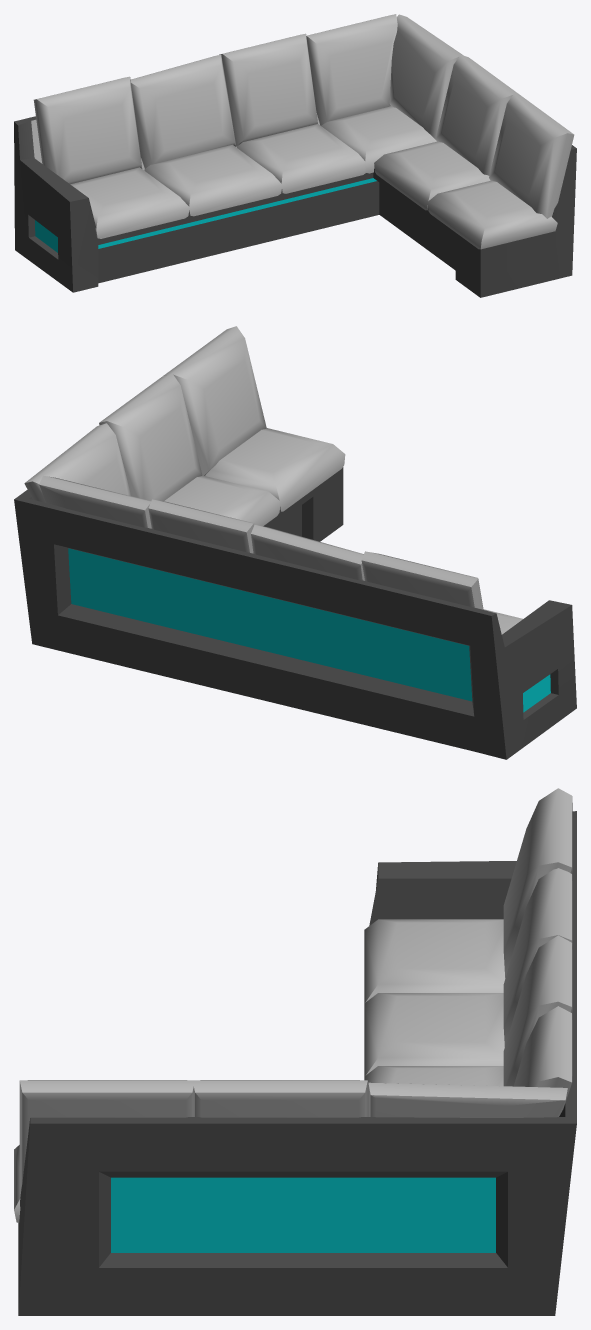
The model's file is SM_decor_sofa1.fbx.
3 views of the same model, one above another, from view 1: azimuth 30°, elevation 25°; view 2: azimuth 150°, elevation 25°; view 3: azimuth 270°, elevation 25° (orthographic). The views are drawn at different scales.
Visible parts, largest first — view 1: pCube1, pCube2, pCube5, pCube7, pCube12, polySurface5, pCube4, polySurface4, polySurface3, polySurface2, pCube6, pCube3 (+2 smaller); view 2: pCube1, polySurface5, polySurface4, polySurface2, polySurface3, pCube2, polySurface1, pCube5, pCube7, pCube12; view 3: pCube1, pCube3, pCube4, polySurface5, polySurface4, polySurface3, pCube2, pCube5, pCube7, pCube12, pCube6.
Part boxes in pixels (box(x1,y1,x2,y2)): pCube1: box(14, 113, 576, 297); pCube2: box(33, 76, 142, 184); pCube5: box(130, 54, 236, 168); pCube7: box(219, 33, 317, 146); pCube12: box(306, 14, 397, 125); polySurface5: box(489, 94, 574, 218); pCube4: box(144, 144, 281, 216); polySurface4: box(436, 55, 520, 175); polySurface3: box(389, 14, 463, 140); polySurface2: box(427, 180, 557, 249); pCube6: box(237, 124, 366, 193); pCube3: box(70, 167, 189, 238); pCube1: box(14, 467, 576, 759); polySurface5: box(163, 326, 266, 475); polySurface4: box(99, 373, 202, 501); polySurface2: box(205, 428, 345, 511); polySurface3: box(24, 423, 130, 502); pCube2: box(361, 551, 483, 609); polySurface1: box(164, 475, 280, 526); pCube5: box(251, 525, 364, 580); pCube7: box(148, 499, 254, 553); pCube12: box(39, 475, 151, 528); pCube1: box(18, 811, 576, 1315); pCube3: box(364, 919, 505, 1002); pCube4: box(364, 993, 504, 1076); polySurface5: box(19, 1080, 193, 1195); polySurface4: box(192, 1080, 367, 1117); polySurface3: box(368, 1082, 567, 1117); pCube2: box(503, 788, 572, 977); pCube5: box(503, 868, 572, 1046); pCube7: box(503, 935, 572, 1086); pCube12: box(513, 1006, 572, 1116); pCube6: box(364, 1066, 503, 1116).
Bounding box in the file's own units: 31.64 × 10.92 × 23.72.
